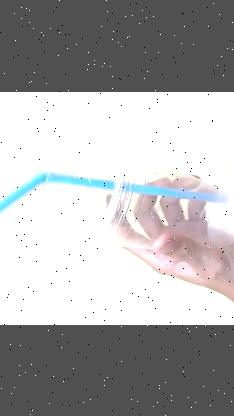Others: (27, 125, 234, 255)
